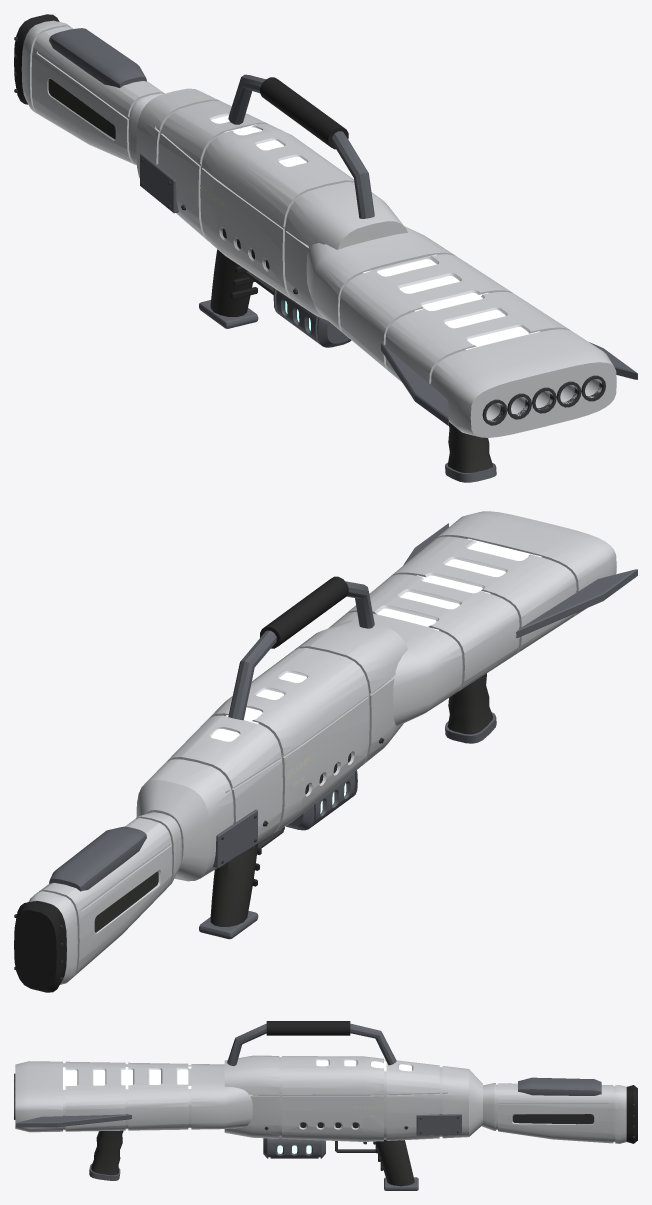
The model's file is splasher.glb.
3 views of the same model, one above another, from view 1: azimuth 30°, elevation 25°; view 2: azimuth 150°, elevation 25°; view 3: azimuth 270°, elevation 25° (orthographic). The views are drawn at different scales.
Parts seen in each view (by area): view 1: Body; view 2: Body; view 3: Body.
Boxes of the visible parts, x1,y1,x2,y2 form: Body: [14, 14, 637, 482]; Body: [14, 511, 637, 992]; Body: [14, 1021, 637, 1190].
Bounding box in the file's own units: 0.192 × 0.2607 × 0.894.
